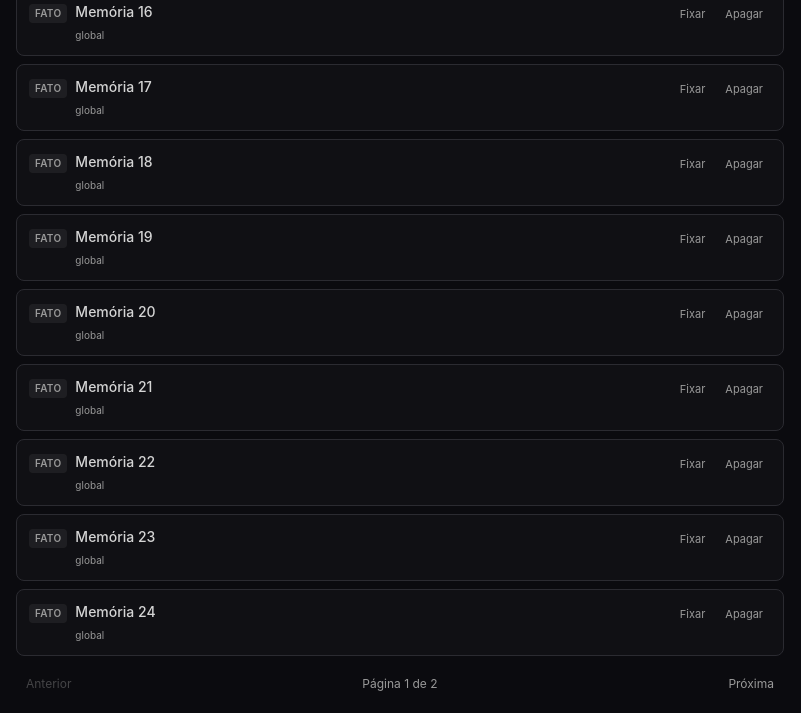
MemoryView paging › shows 25 per page and moves between pages
The image size is (801, 713).
(page scrolled)
Expected: the text "Página 1 de 2" is shown, [362,676,438,692]
Expected: the text "Memória 25" is not shown
Click the button "Próxima".
click(751, 684)  # box [718,672,784,696]
(page scrolled)
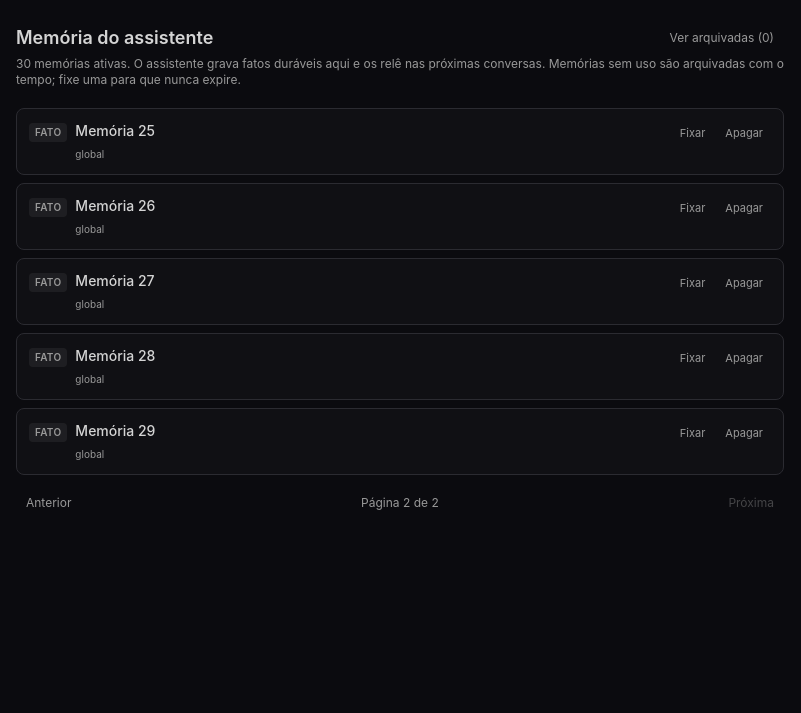
Expected: the text "Página 2 de 2" is shown, [361,495,439,511]
Expected: the text "Memória 25" is shown, [75,121,155,141]
Expected: the button "Próxima" is disabled, [718,491,784,515]
